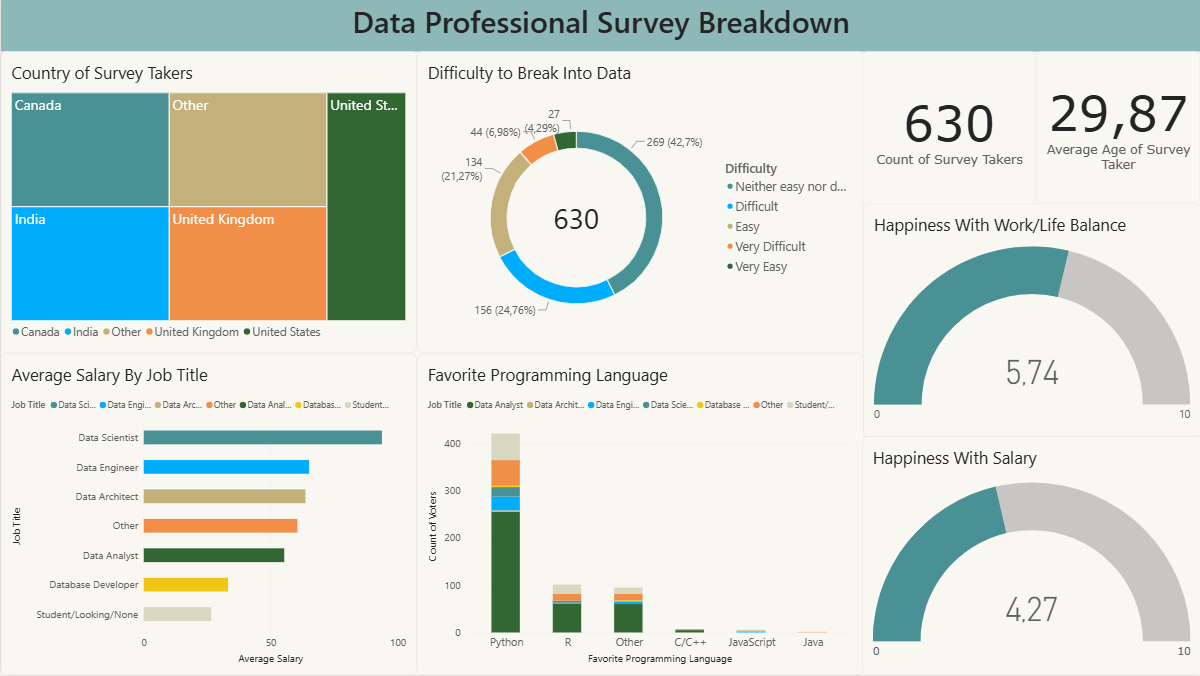

The page's visual inventory and layout, read from the dashboard file:
{"tool":"powerbi","page":{"name":"Strona 1","canvas":[1920,1080],"ordinal":0},"visuals":[{"type":"textbox","box":[0,0,1920,82.5],"z":0},{"type":"cardVisual","fields":{"Data":["CountNonNull(Data Professional Survey.Unique ID)"]},"box":[1377.5,82.5,277.5,250],"z":1000},{"type":"cardVisual","fields":{"Data":["Avg(Data Professional Survey.Q10 - Current Age)"]},"box":[1655,82.5,262.5,242.5],"z":2000},{"type":"barChart","title":"Average Salary By Job Title","fields":{"Category":["Data Professional Survey.Q1 - Which Title Best Fits your Current Role?.1"],"Series":["Data Professional Survey.Q1 - Which Title Best Fits your Current Role?.1"],"Y":["Avg(Data Professional Survey.Average Salary)"]},"box":[0,565,665,513.8],"z":3000},{"type":"columnChart","title":"Favorite Programming Language","fields":{"Category":["Data Professional Survey.Q5 - Favorite Programming Language.1"],"Series":["Data Professional Survey.Q1 - Which Title Best Fits your Current Role?.1"],"Y":["CountNonNull(Data Professional Survey.Unique ID)"]},"box":[665,565,715,513.8],"z":4000},{"type":"treemap","title":"Country of Survey Takers","fields":{"Group":["Data Professional Survey.Q11 - Which Country do you live in?.1"],"Values":["Count(Data Professional Survey.Q11 - Which Country do you live in?.1)"]},"box":[0,82.5,665,482.5],"z":5000},{"type":"gauge","title":"Happiness With Salary","fields":{"MaxValue":["Max(Data Professional Survey.Q6 - How Happy are you in your Current Position with the following? (Salary))"],"MinValue":["Min(Data Professional Survey.Q6 - How Happy are you in your Current Position with the following? (Salary))"],"Y":["Avg(Data Professional Survey.Q6 - How Happy are you in your Current Position with the following? (Salary))"]},"box":[1377.5,697.5,542.5,382.5],"z":6000},{"type":"gauge","title":"Happiness With Work/Life Balance","fields":{"MaxValue":["Max(Data Professional Survey.Q6 - How Happy are you in your Current Position with the following? (Work/Life Balance))1"],"MinValue":["Min(Data Professional Survey.Q6 - How Happy are you in your Current Position with the following? (Work/Life Balance))"],"Y":["Avg(Data Professional Survey.Q6 - How Happy are you in your Current Position with the following? (Work/Life Balance))"]},"box":[1380,325,540,372.5],"z":7000},{"type":"donutChart","title":"Difficulty to Break Into Data","fields":{"Category":["Data Professional Survey.Q7 - How difficult was it for you to break into Data?"],"Y":["CountNonNull(Data Professional Survey.Q7 - How difficult was it for you to break into Data?)"]},"box":[665,82.5,713.8,482.5],"z":8000}]}

Visuals, with their boxes in screenshot pixels (x1, y1, x2, y2), scaled from the page's 1920x1080 canvas onto the 1200x676 screenshot:
textbox: x1=0 y1=0 x2=1199 y2=52
cardVisual - CountNonNull(Data Professional Survey.Unique ID): x1=861 y1=52 x2=1034 y2=208
cardVisual - Avg(Data Professional Survey.Q10 - Current Age): x1=1034 y1=52 x2=1198 y2=203
"Average Salary By Job Title" barChart: x1=0 y1=354 x2=416 y2=675
"Favorite Programming Language" columnChart: x1=416 y1=354 x2=862 y2=675
"Country of Survey Takers" treemap: x1=0 y1=52 x2=416 y2=354
"Happiness With Salary" gauge: x1=861 y1=437 x2=1199 y2=675
"Happiness With Work/Life Balance" gauge: x1=862 y1=203 x2=1199 y2=437
"Difficulty to Break Into Data" donutChart: x1=416 y1=52 x2=862 y2=354
